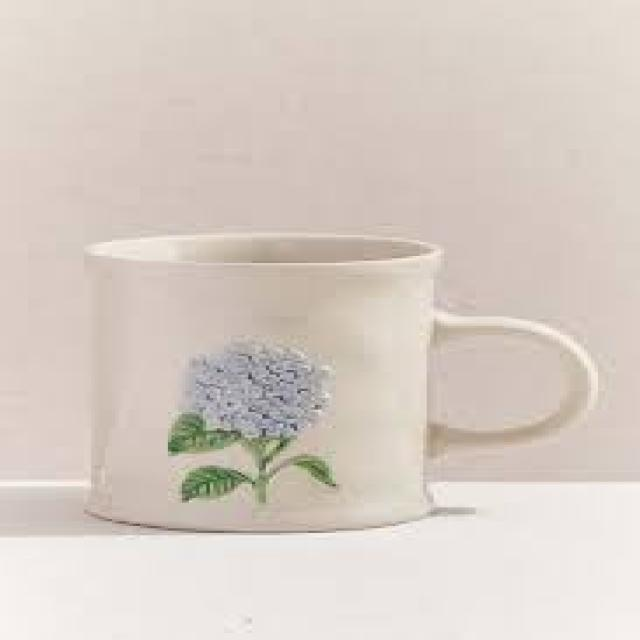taza: (84, 232, 602, 538)
